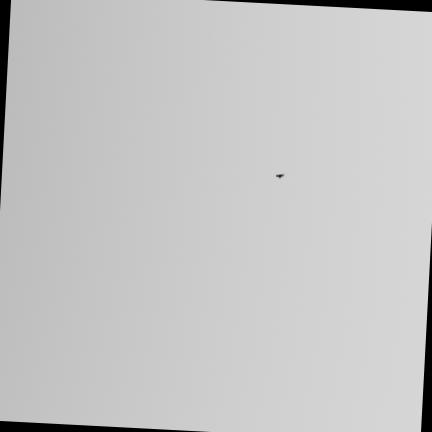Shahed: (276, 172, 285, 178)
